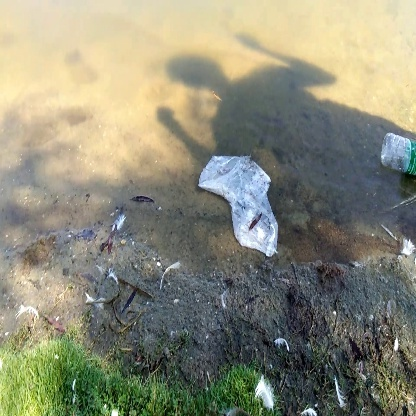plastic-bag: (197, 153, 284, 257)
